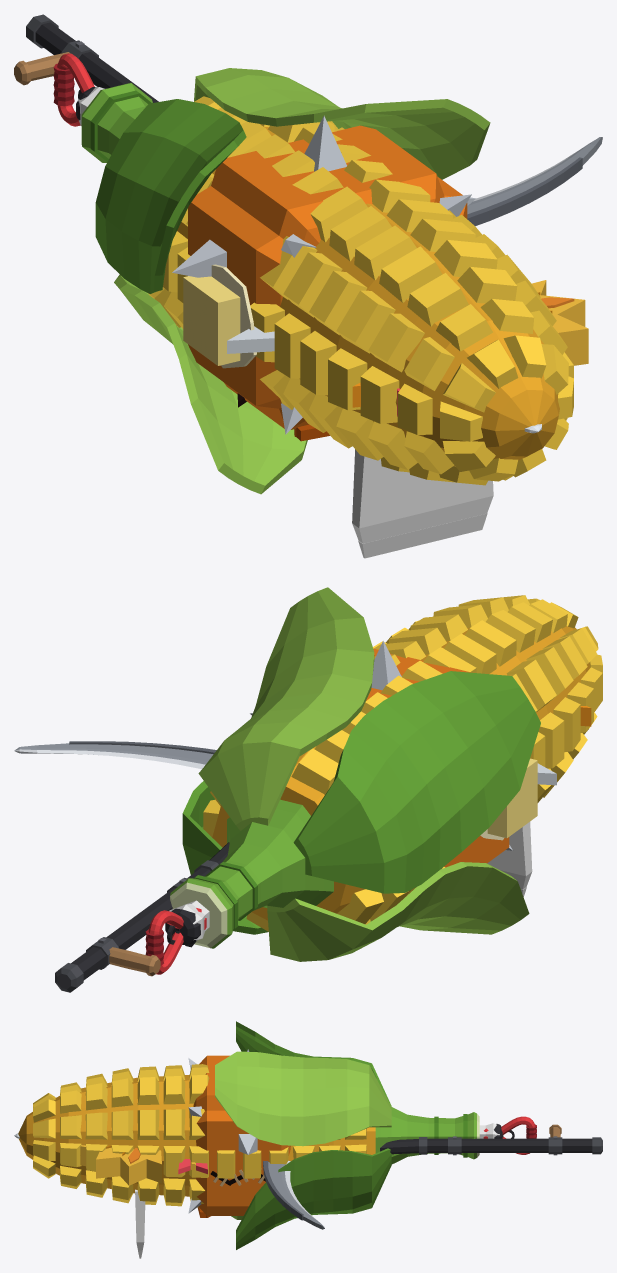
The model's file is w1_weapons.fbx.
3 views of the same model, one above another, from view 1: azimuth 30°, elevation 25°; view 2: azimuth 150°, elevation 25°; view 3: azimuth 270°, elevation 25° (orthographic). The views are drawn at different scales.
Visible parts, largest first — view 1: CornCob.Kernels, CornCob.HuskLight, PumpkinMace.Head, CornCob.HuskDark, CornCob.Cob, CrowbaneHoe.Blade, CornCob.Butter, PumpkinMace.Spikes, CornCob.Stalk, CrowbaneHoe.Edge, WeathervaneSpear.Gold, Scythe.Snath (+9 smaller); view 2: CornCob.HuskDark, CornCob.HuskLight, CornCob.Kernels, CornCob.Stalk, CornCob.Cob, Scythe.Snath, CornCob.Butter, CornCob.CutEnd, PumpkinMace.Head, Scythe.Blade, CrowbaneHoe.Blade, Scythe.Iron (+7 smaller); view 3: CornCob.Kernels, CornCob.HuskLight, CornCob.HuskDark, CornCob.Cob, PumpkinMace.Head, Scythe.Snath, CornCob.Stalk, WeathervaneSpear.Gold, Scythe.Iron, Scythe.Blade, PumpkinMace.Spikes, CrowbaneHoe.Blade (+2 smaller).
Part boxes in pixels (x1,y1,x2,y2): CornCob.Kernels: [148, 96, 573, 485]; CornCob.HuskLight: [114, 68, 490, 494]; PumpkinMace.Head: [188, 125, 467, 429]; CornCob.HuskDark: [95, 99, 246, 293]; CornCob.Cob: [177, 126, 559, 466]; CrowbaneHoe.Blade: [352, 449, 493, 543]; CornCob.Butter: [183, 276, 240, 365]; PumpkinMace.Spikes: [172, 115, 475, 434]; CornCob.Stalk: [81, 83, 152, 162]; CrowbaneHoe.Edge: [358, 513, 487, 558]; WeathervaneSpear.Gold: [532, 280, 588, 365]; Scythe.Snath: [35, 22, 158, 102]; CornCob.HuskDark: [182, 671, 540, 934]; CornCob.HuskLight: [198, 587, 529, 961]; CornCob.Kernels: [203, 595, 602, 931]; CornCob.Stalk: [170, 799, 333, 948]; CornCob.Cob: [212, 626, 589, 920]; Scythe.Snath: [71, 842, 229, 980]; CornCob.Butter: [487, 758, 537, 838]; CornCob.CutEnd: [170, 882, 227, 948]; PumpkinMace.Head: [366, 648, 509, 867]; Scythe.Blade: [14, 743, 213, 764]; CrowbaneHoe.Blade: [487, 821, 532, 889]; Scythe.Iron: [55, 860, 218, 992]; CornCob.Kernels: [33, 1064, 366, 1207]; CornCob.HuskLight: [215, 1051, 391, 1219]; CornCob.HuskDark: [236, 1021, 391, 1249]; CornCob.Cob: [18, 1075, 375, 1196]; PumpkinMace.Head: [193, 1055, 290, 1215]; Scythe.Snath: [380, 1138, 592, 1154]; CornCob.Stalk: [375, 1107, 476, 1164]; WeathervaneSpear.Gold: [80, 1145, 161, 1185]; Scythe.Iron: [419, 1137, 602, 1154]; Scythe.Blade: [268, 1162, 324, 1229]; PumpkinMace.Spikes: [188, 1049, 257, 1213]; CrowbaneHoe.Blade: [135, 1189, 145, 1250].
Bounding box in the file's own units: 6.17 × 4.23 × 11.14.
